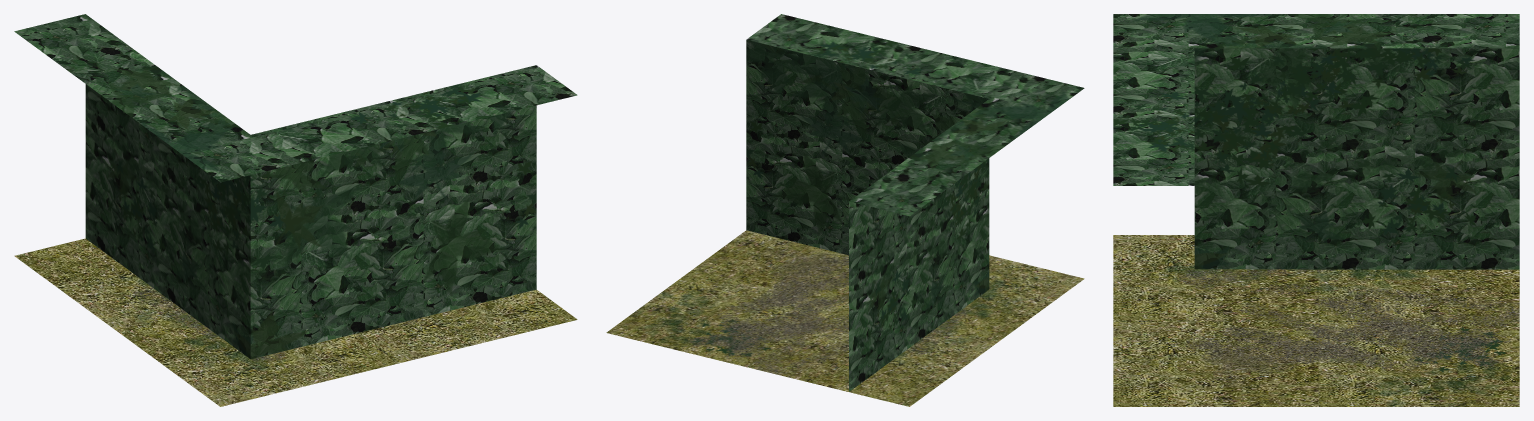
File: 4-5_Wall_Turn(No_Edge).fbx
The picture shows the model from 3 angles, left to right: view 1: azimuth 30°, elevation 25°; view 2: azimuth 150°, elevation 25°; view 3: azimuth 270°, elevation 25°; orthographic projection. The views are drawn at different scales.
Parts seen in each view (by area): view 1: Wall_Turn_No_Edge; view 2: Wall_Turn_No_Edge; view 3: Wall_Turn_No_Edge.
Part boxes in pixels (x1,y1,x2,y2): Wall_Turn_No_Edge: [14, 14, 577, 406]; Wall_Turn_No_Edge: [606, 14, 1084, 406]; Wall_Turn_No_Edge: [1113, 14, 1519, 406].
Size of the model in its own units: 100 by 60 by 100.
Materials: 1 (1 with a texture image).
